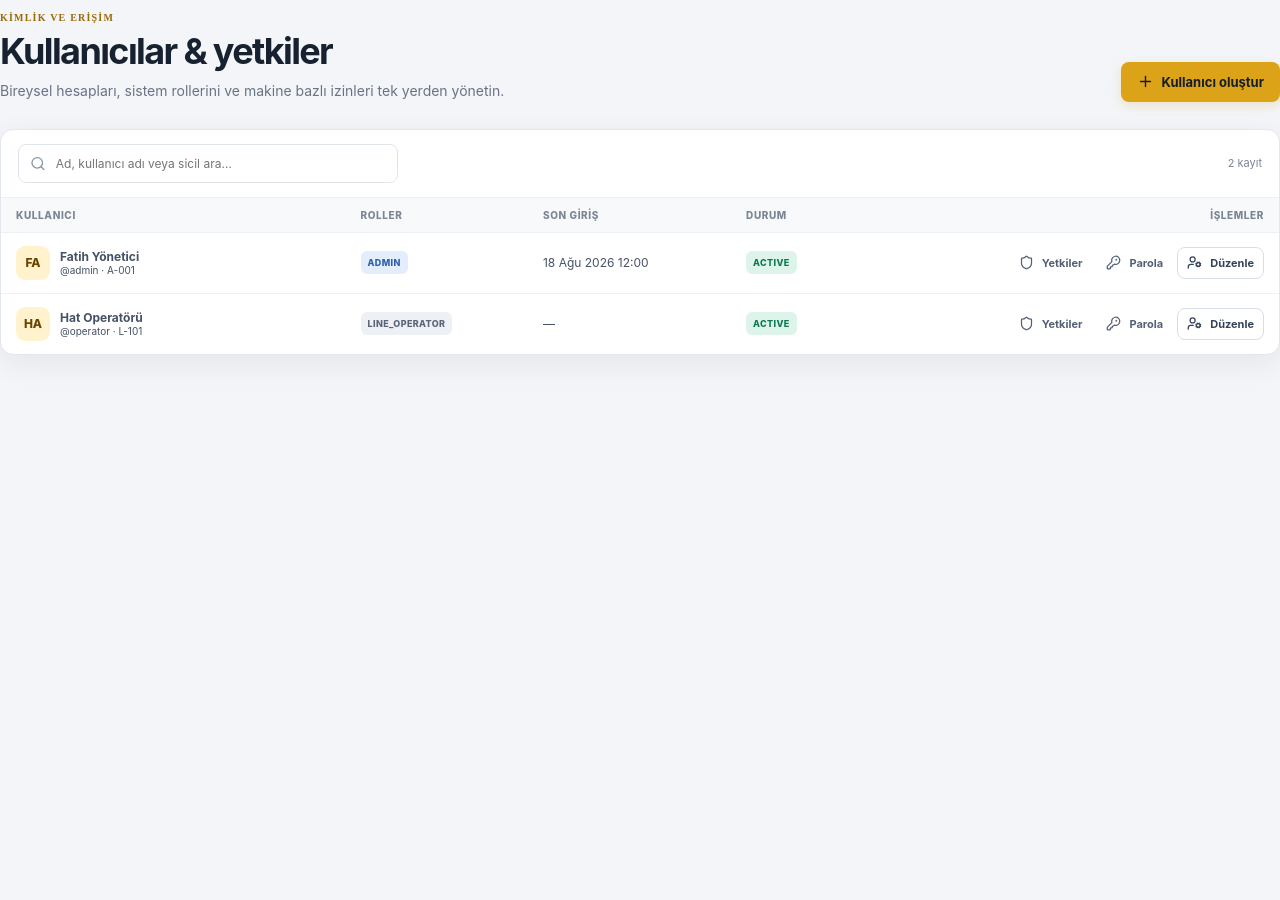
Test case: User and permission management › shows ADMIN global bypass explicitly in the permission matrix
Click the button "Yetkiler" in the row of "Fatih Yönetici": (1051, 263) [1009, 247, 1092, 279]
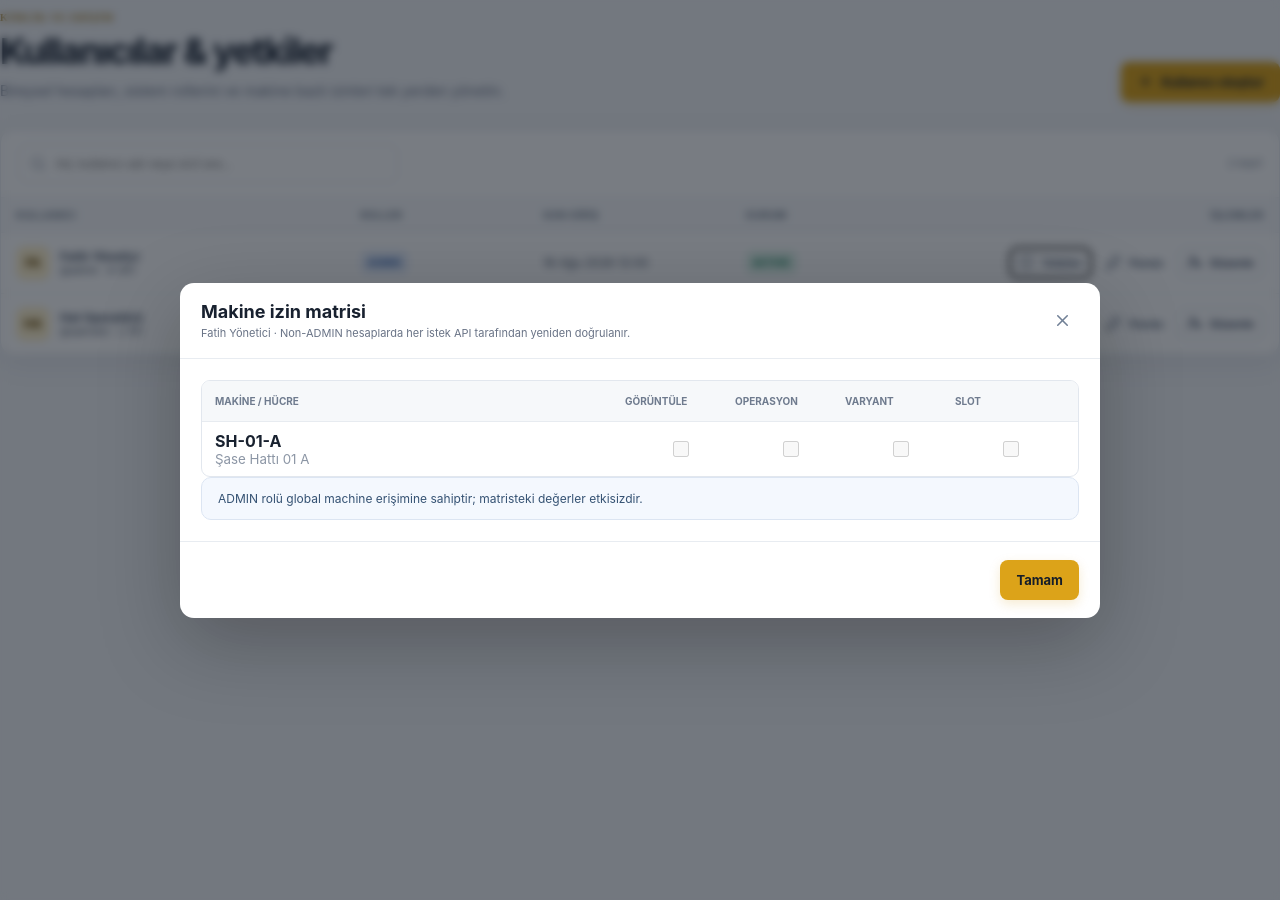
Check: the text "ADMIN rolü global machine erişimine sahiptir" is shown, box [218, 490, 643, 506]
